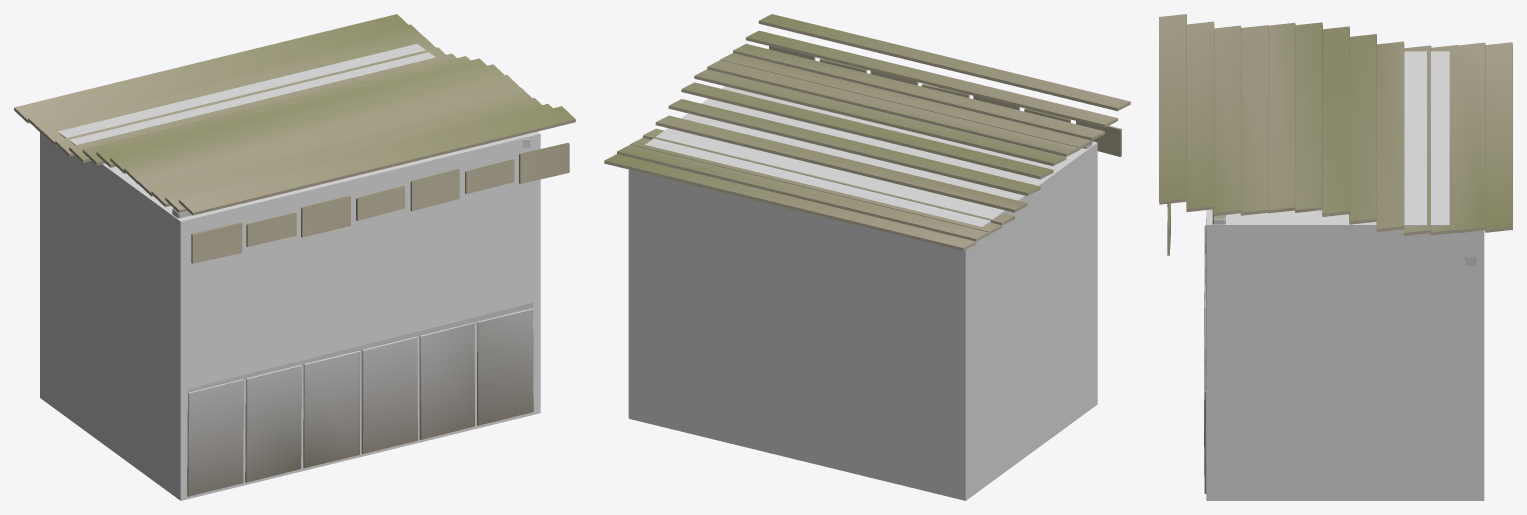
The model's file is prop_market_stall_c.glb.
3 views of the same model, side by side, from view 1: azimuth 30°, elevation 25°; view 2: azimuth 150°, elevation 25°; view 3: azimuth 270°, elevation 25° (orthographic). The views are drawn at different scales.
Visible parts, largest first — view 1: col_stall.002, cloth_awning.002, stall_frame.002; view 2: col_stall.002, cloth_awning.002; view 3: col_stall.002, cloth_awning.002, stall_frame.002.
Part boxes in pixels (x1,y1,x2,y2): col_stall.002: [40, 44, 540, 500]; cloth_awning.002: [14, 14, 575, 263]; stall_frame.002: [172, 139, 533, 496]; col_stall.002: [628, 86, 1097, 500]; cloth_awning.002: [604, 14, 1130, 250]; col_stall.002: [1206, 51, 1484, 500]; cloth_awning.002: [1159, 14, 1512, 255]; stall_frame.002: [1204, 209, 1476, 493].
Size of the model in its own units: 3.3 by 2.58 by 2.67.
